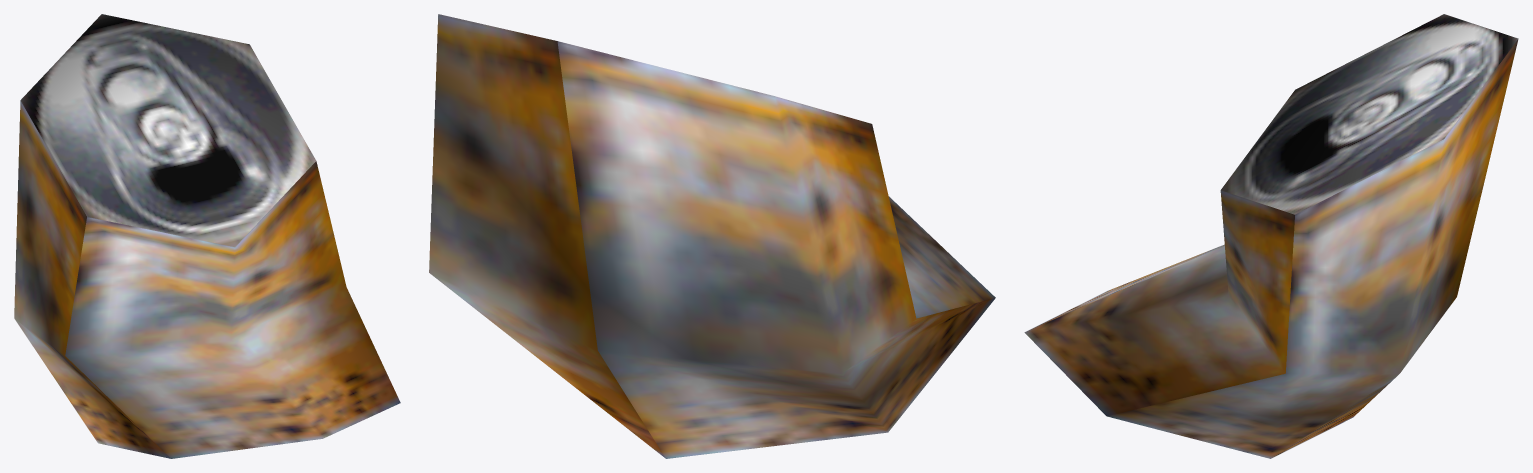
File: can_8_crushed.glb
3 renders of one model, left to right at view 1: azimuth 30°, elevation 25°; view 2: azimuth 150°, elevation 25°; view 3: azimuth 270°, elevation 25°, orthographic. The views are drawn at different scales.
Visible parts, largest first — view 1: Can_8_Crushed; view 2: Can_8_Crushed; view 3: Can_8_Crushed.
Boxes of the visible parts, <box> form: Can_8_Crushed: <box>14,14,400,458</box>; Can_8_Crushed: <box>429,14,995,458</box>; Can_8_Crushed: <box>1024,14,1518,458</box>.
Size of the model in its own units: 0.24 by 0.2766 by 0.3267.
1 material, 1 textured.
